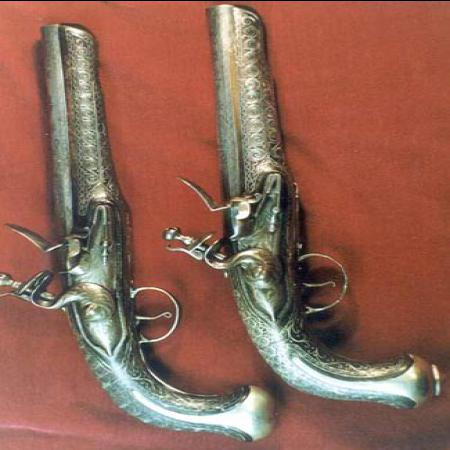Pistol: (130, 3, 439, 411), (1, 23, 276, 442)
